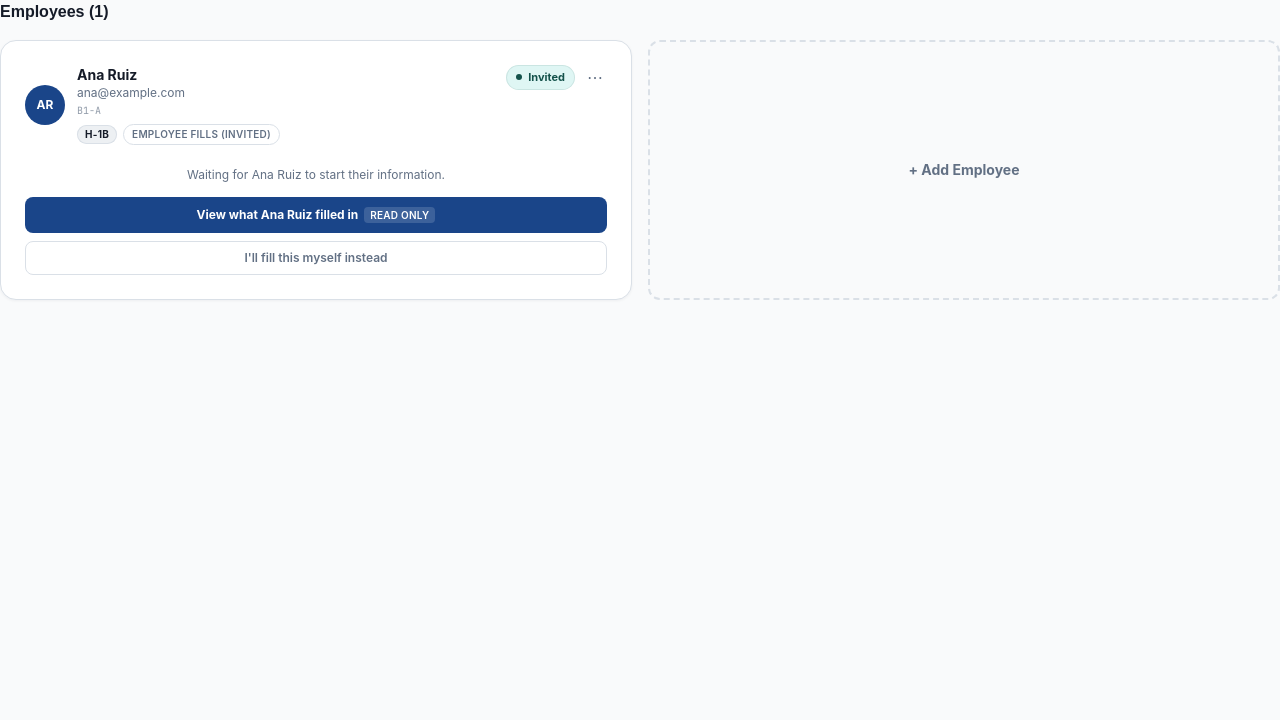
it: confirmations on the Employees dashboard are themed dialogs, never the browser's box › 'I'll fill this myself instead' on an invited card asks in the dialog; Cancel leaves everything as it was
Click the button "I'll fill this myself instead" at (316, 258), box [25,241,607,275]
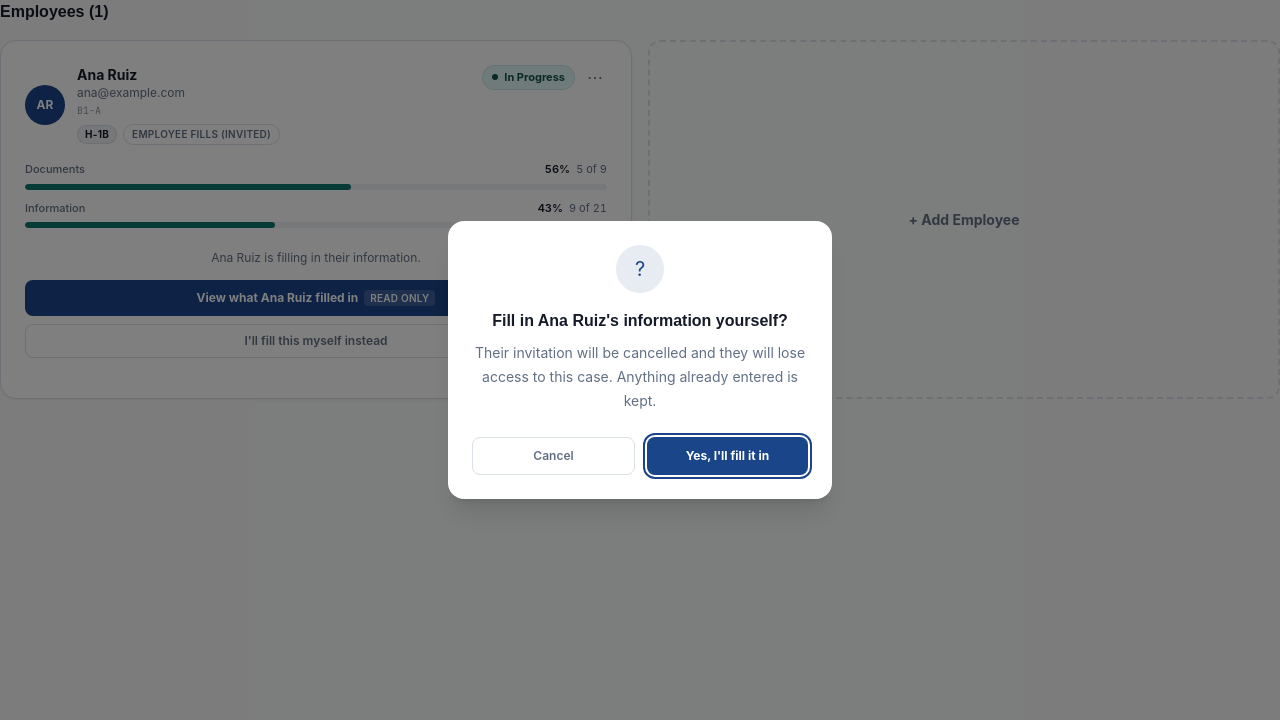
Result: the dialog shows "Their invitation will be cancelled" at [475,344,805,409]
Click the button "Cancel" at (554, 456), box [472,437,635,475]
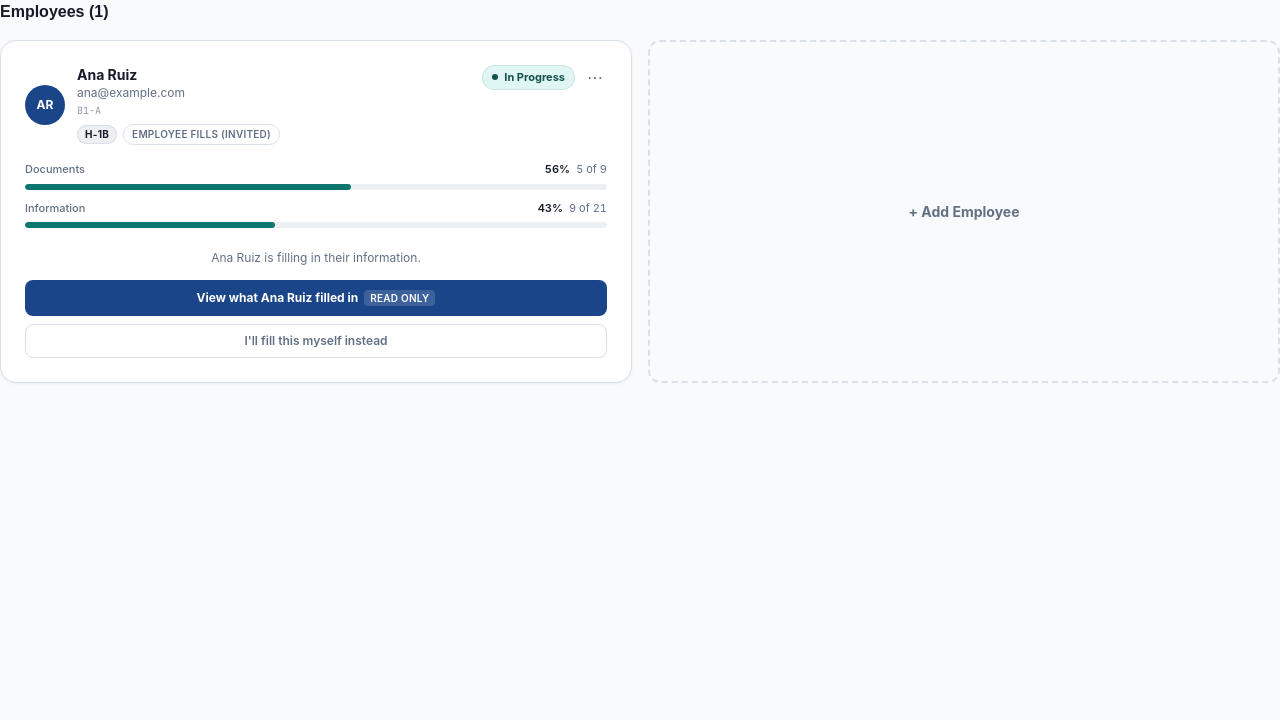
Result: the dialog is gone
